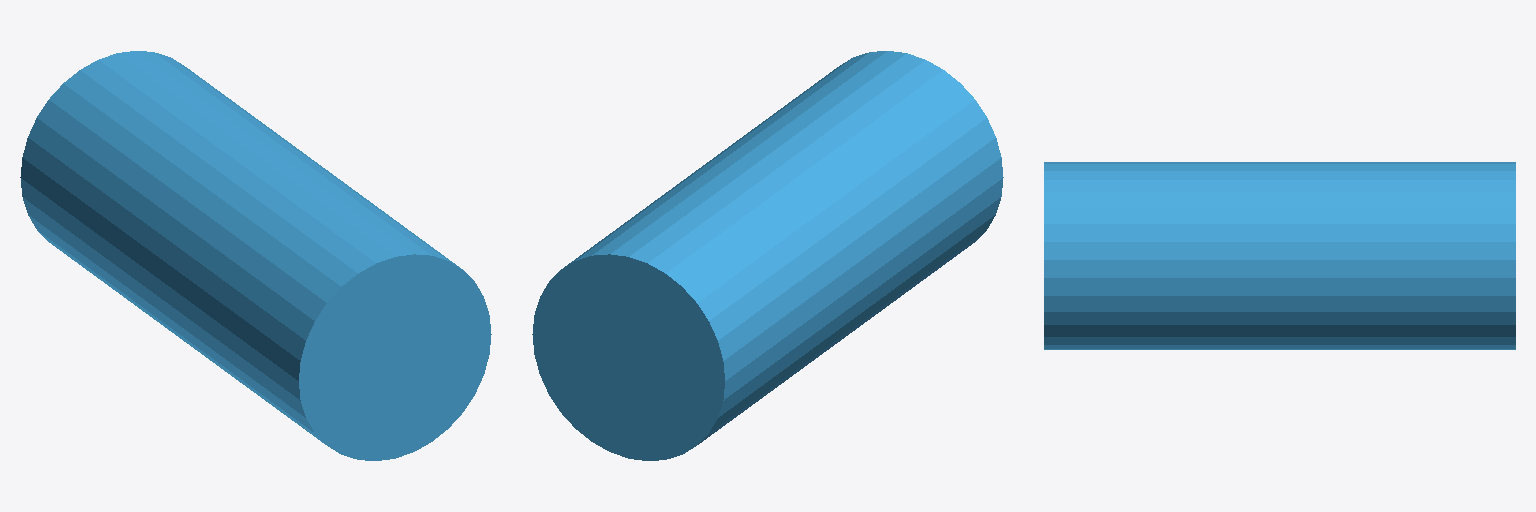
robot.urdf — cylinder:
<?xml version="1.0" ?>
<robot name="cylinder">

  <gazebo>
    <plugin name="model_push" filename="libmodel_push.so"/>
  </gazebo>

  <link name="dummy_link"/>
  <link name="base_link">
    <inertial>
      <origin rpy="0 0 0" xyz="0 0 0"/>
      <mass value="10"/>
      <inertia ixx="1" ixy="0" ixz="0" iyy="1" iyz="0" izz="1"/>
    </inertial>
    <visual>
      <origin rpy="1.570796 0 0" xyz="0 0 0"/>
      <geometry>
        <cylinder radius="0.2" length="1"/>
      </geometry>
      <material name="grey"/>
    </visual>
    <collision>
      <origin rpy="1.570796 0 0" xyz="0 0 0"/>
      <geometry>
        <cylinder radius="0.2" length="1"/>
      </geometry>
    </collision>
  </link>
  <gazebo reference="base_link">
    <kp value="1000000"/>
    <kd value="1"/>
    <mu1 value="10"/>
    <mu2 value="10"/>
    <material>Gazebo/Blue</material>
  </gazebo>
  <joint name="dummy_joint" type="fixed">
    <parent link="dummy_link"/>
    <child link="base_link"/>
  </joint>
</robot>

--- Facts derived from the render (not from the file) ---
The picture shows the robot from 3 angles, left to right: view 1: azimuth 30°, elevation 25°; view 2: azimuth 150°, elevation 25°; view 3: azimuth 270°, elevation 25°; orthographic projection.
Model cylinder with 2 links and 1 joints (1 fixed), rooted at dummy_link, posed all joints at 0.
Visible links, largest first — view 1: base_link; view 2: base_link; view 3: base_link.
Link boxes in pixels (x1,y1,x2,y2): base_link: [20, 51, 491, 460]; base_link: [532, 51, 1003, 460]; base_link: [1044, 162, 1515, 349].
Size in the robot's own frame: 0.4 by 1 by 0.4 metres.
Geometry: primitives only (box / cylinder / sphere), no mesh files.